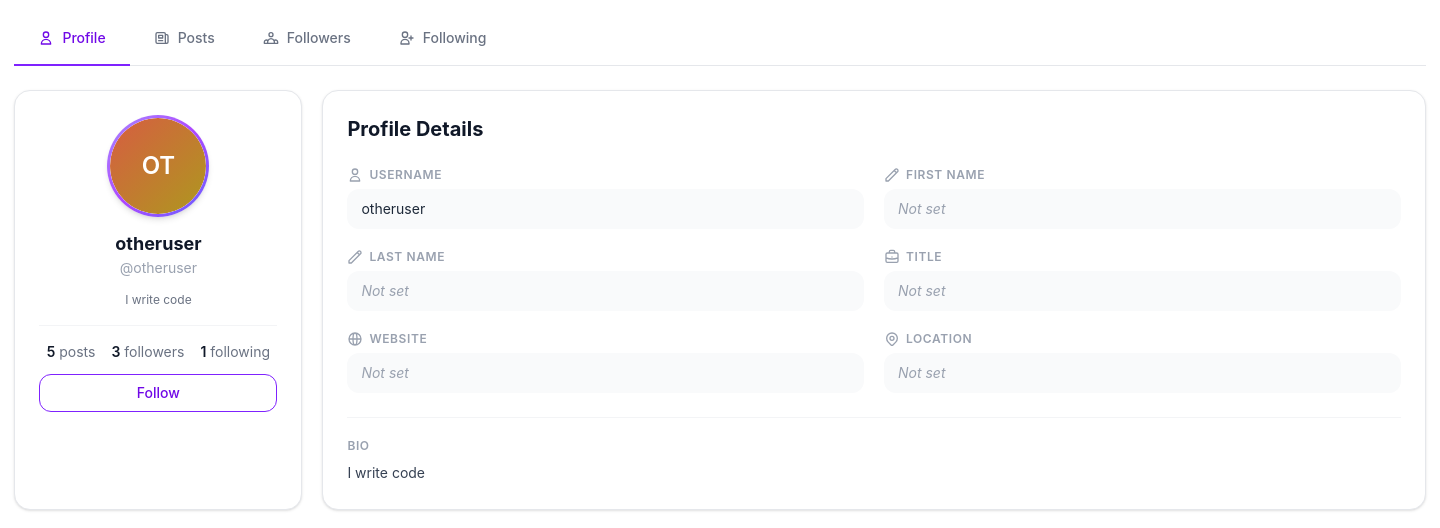
Test: ProfilePage — other user (/user/:userId) › shows 'No public posts yet' on Posts tab when empty
expect the text "@otheruser" is shown: met, box [120,258,197,278]
Click the button "Posts": x=184, y=39 [130,12,239,66]
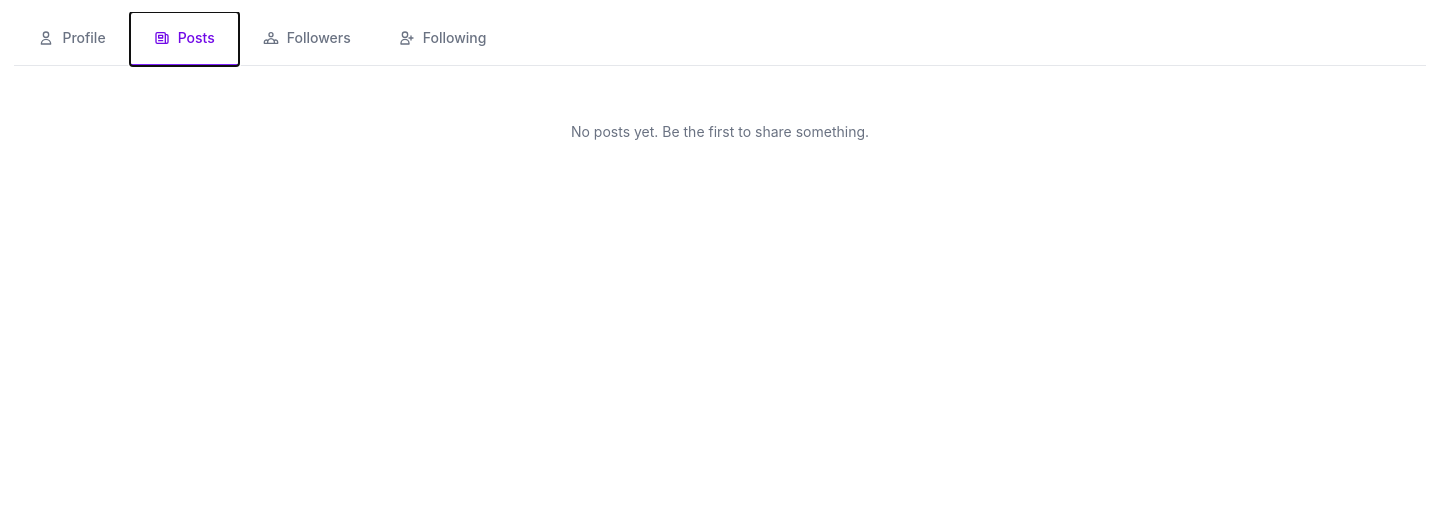
expect the text "No posts yet. Be the first to share something." is shown: met, box [571,123,869,140]
